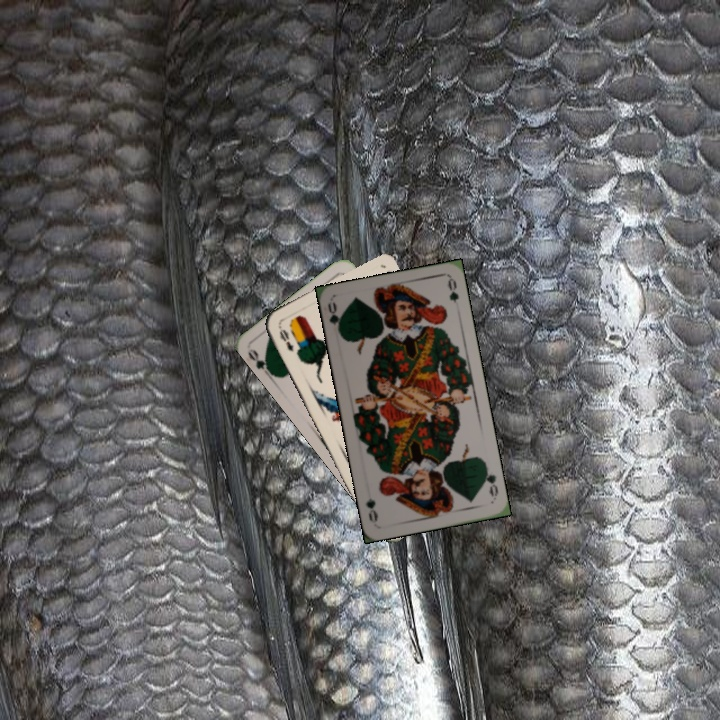EO: (274, 322, 296, 354)
GO: (244, 345, 277, 382), (324, 299, 345, 339), (480, 461, 501, 501)
